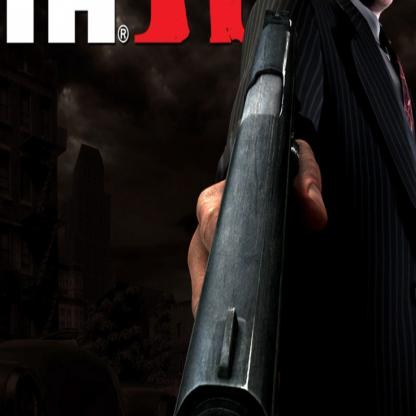gun: (154, 8, 336, 415)
